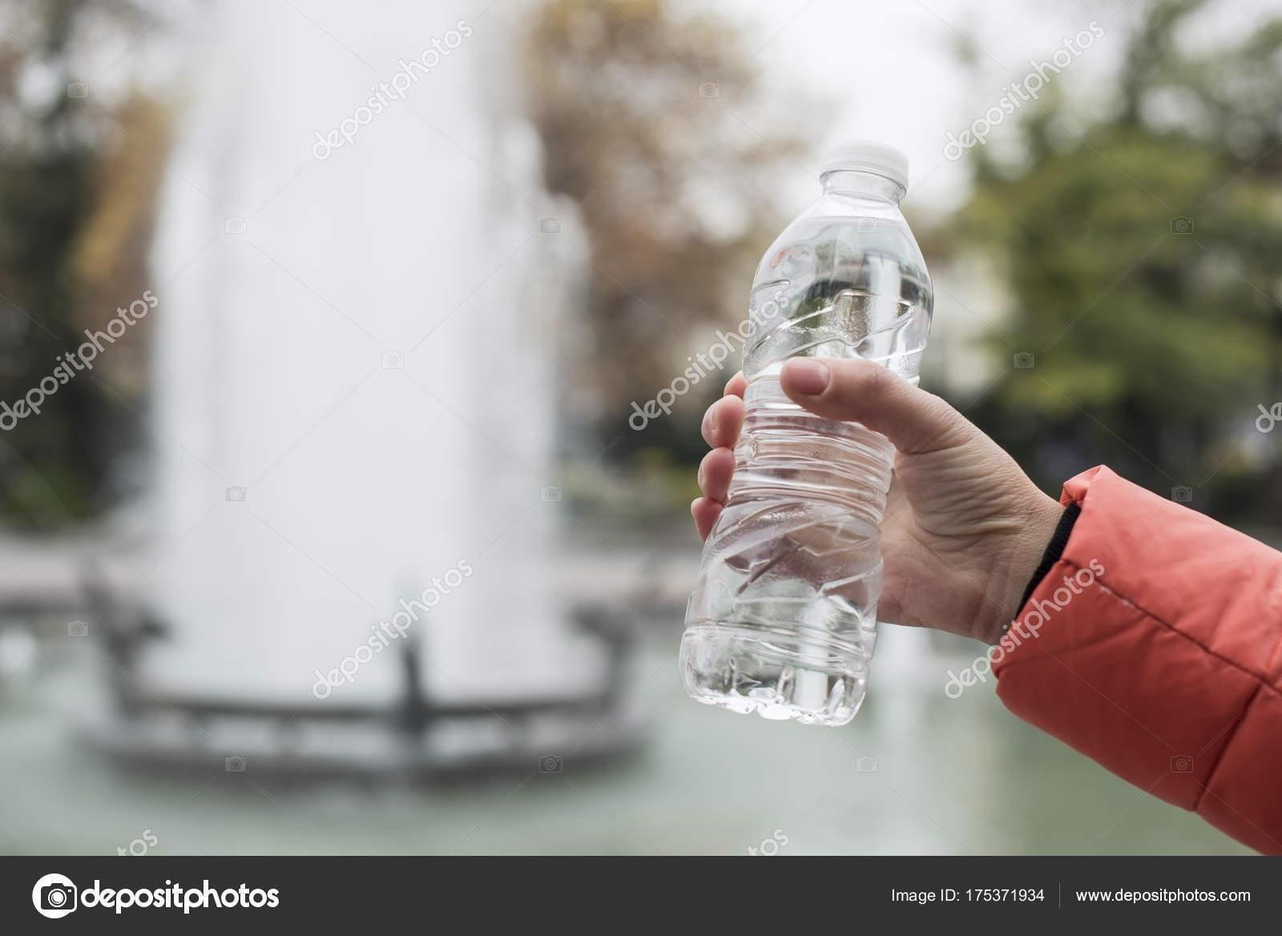bottle-plastic: (673, 133, 936, 724)
